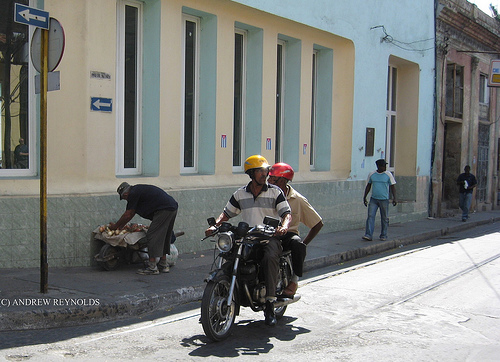helmet: (239, 153, 269, 172), (270, 160, 295, 179)
